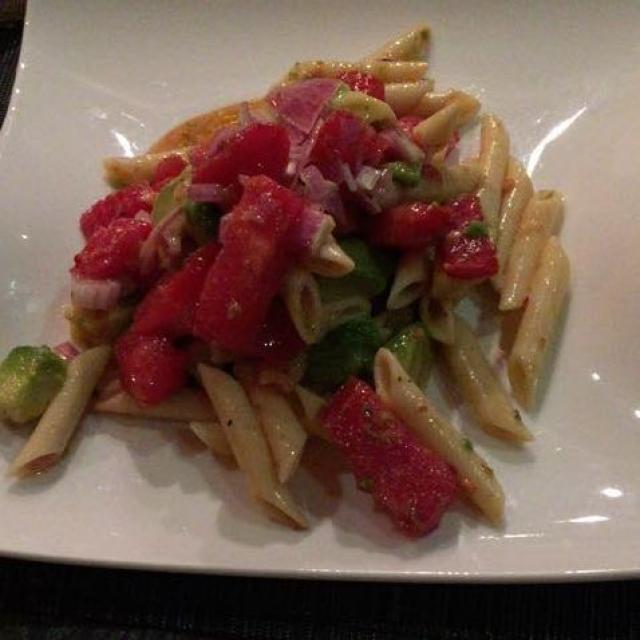avocado: (2, 243, 436, 438)
pasta: (18, 27, 570, 550)
tomato: (60, 59, 508, 525)
